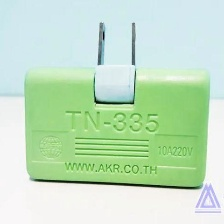three_eye_plug: (19, 14, 213, 191)
